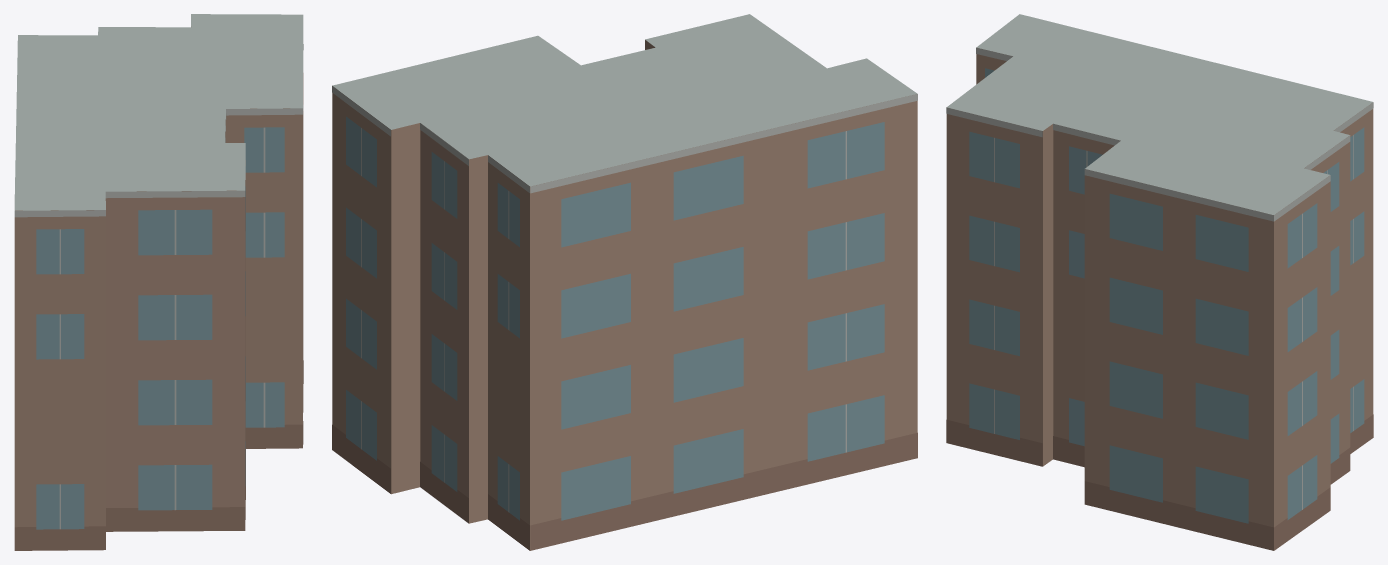
File: survey-upis-33008561.glb
3 views of the same model, side by side, from view 1: azimuth 30°, elevation 25°; view 2: azimuth 150°, elevation 25°; view 3: azimuth 270°, elevation 25° (orthographic). The views are drawn at different scales.
Parts seen in each view (by area): view 1: survey-upis-33008561.tmp; view 2: survey-upis-33008561.tmp; view 3: survey-upis-33008561.tmp.
Boxes of the visible parts, x1,y1,x2,y2 form: survey-upis-33008561.tmp: (14,14,303,550); survey-upis-33008561.tmp: (332,14,917,550); survey-upis-33008561.tmp: (946,14,1373,550).
Size of the model in its own units: 16.47 by 12.8 by 14.77.
